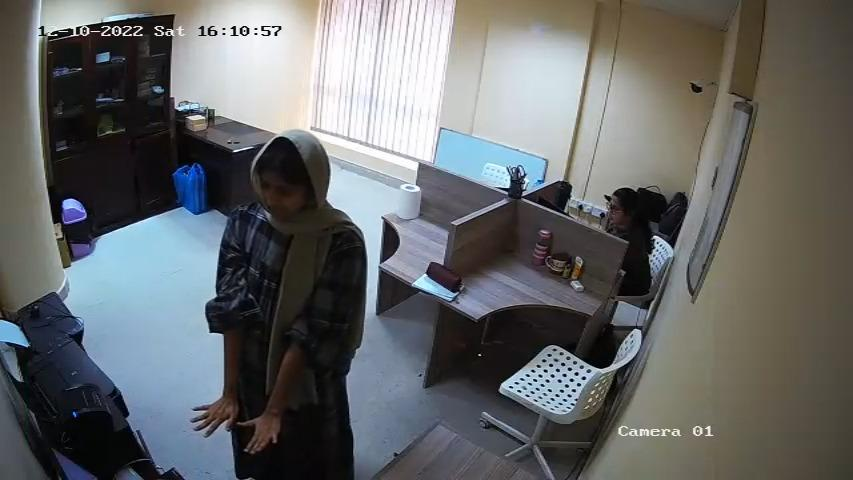no_gloves: (190, 393, 239, 440), (239, 405, 278, 457)
